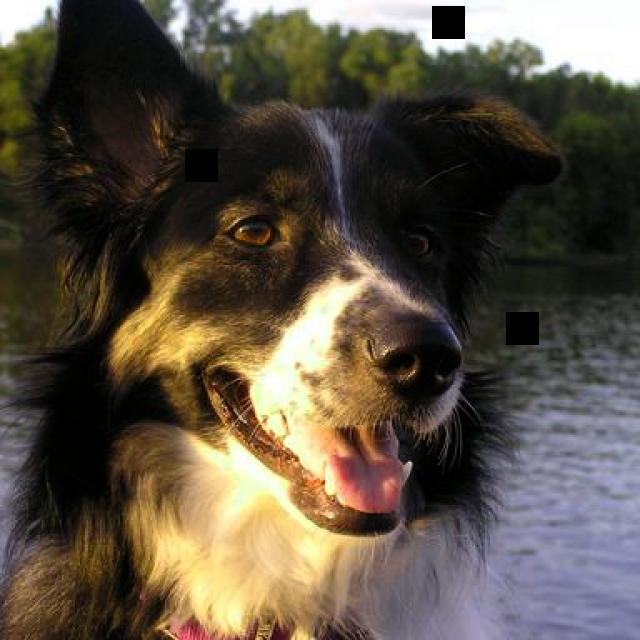adult_dog: (0, 1, 565, 640)
